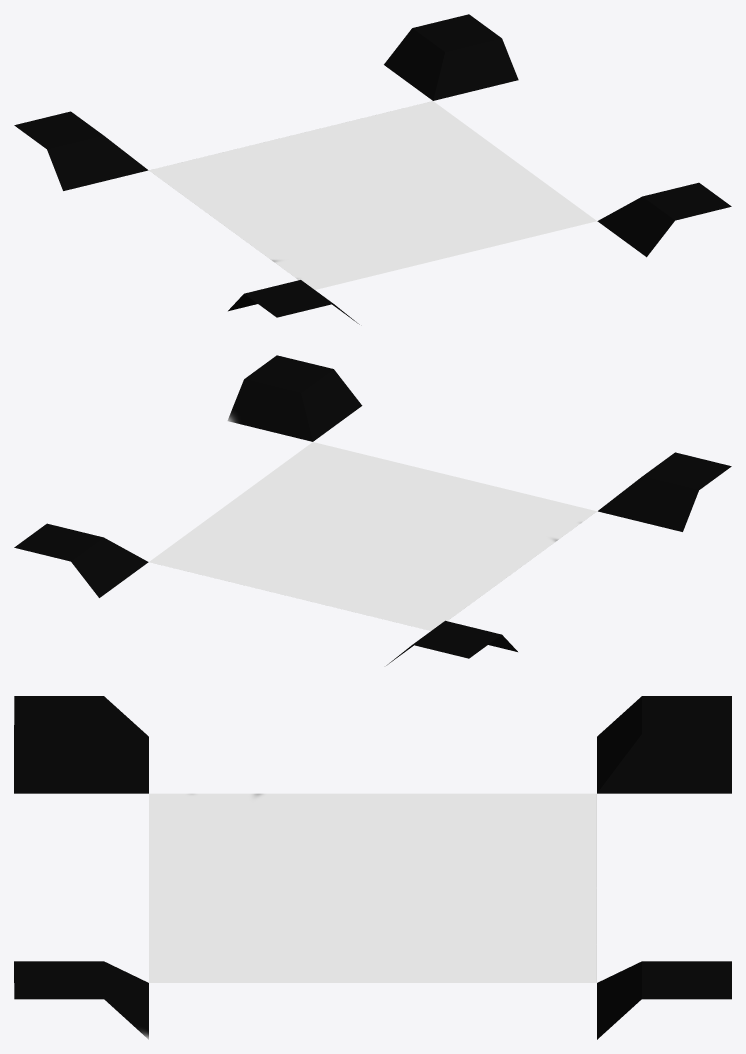
Rendered from holl_center.fbx.
3 renders of one model, top to bottom at view 1: azimuth 30°, elevation 25°; view 2: azimuth 150°, elevation 25°; view 3: azimuth 270°, elevation 25°, orthographic. The views are drawn at different scales.
Parts seen in each view (by area): view 1: SM_cornerX.001; view 2: SM_cornerX.001; view 3: SM_cornerX.001.
Boxes of the visible parts, x1,y1,x2,y2 form: SM_cornerX.001: [14, 14, 731, 324]; SM_cornerX.001: [14, 355, 731, 665]; SM_cornerX.001: [14, 696, 731, 1039].
Bounding box in the file's own units: 432 × 27 × 432.
Materials: 1 (1 with a texture image).
